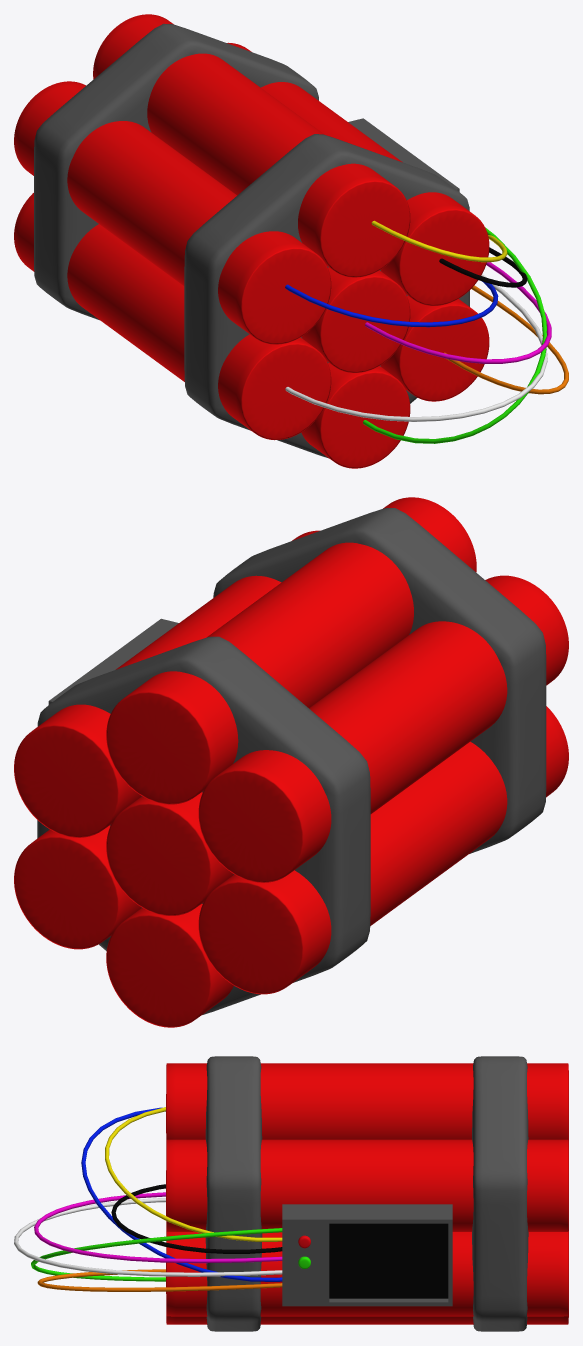
File: Bomba.fbx
The picture shows the model from 3 angles, top to bottom: view 1: azimuth 30°, elevation 25°; view 2: azimuth 150°, elevation 25°; view 3: azimuth 270°, elevation 25°; orthographic projection. The views are drawn at different scales.
Visible parts, largest first — view 1: Cylinder, Cylinder.004, Cylinder.001, BézierCurve.002, BézierCurve.006, BézierCurve, BézierCurve.004, BézierCurve.005, Cube, BézierCurve.003, BézierCurve.001; view 2: Cylinder, Cylinder.004, Cylinder.001, Cube; view 3: Cylinder, Cylinder.004, Cube, BézierCurve.002, BézierCurve, BézierCurve.006, BézierCurve.005, BézierCurve.004, BézierCurve.003, BézierCurve.001.
Part boxes in pixels (x1,y1,x2,y2): Cylinder: (14, 14, 489, 468); Cylinder.004: (34, 23, 469, 458); Cylinder.001: (302, 267, 410, 372); BézierCurve.002: (285, 274, 547, 421); BézierCurve.006: (363, 227, 546, 443); BézierCurve: (365, 262, 551, 363); BézierCurve.004: (285, 281, 498, 327); BézierCurve.005: (444, 285, 568, 394); Cube: (348, 118, 459, 191); BézierCurve.003: (371, 220, 507, 262); BézierCurve.001: (439, 247, 527, 287); Cylinder: (14, 497, 568, 1027); Cylinder.004: (37, 508, 546, 1014); Cylinder.001: (106, 792, 233, 915); Cube: (48, 618, 178, 704); Cylinder: (166, 1063, 568, 1324); Cylinder.004: (205, 1056, 528, 1331); Cube: (282, 1204, 452, 1306); BézierCurve.002: (14, 1198, 282, 1276); BézierCurve: (34, 1192, 282, 1263); BézierCurve.006: (31, 1228, 282, 1281); BézierCurve.005: (37, 1269, 282, 1291); BézierCurve.004: (81, 1107, 282, 1281); BézierCurve.003: (105, 1107, 282, 1241); BézierCurve.001: (111, 1184, 282, 1253).
Bounding box in the file's own units: 140 × 140 × 258.
